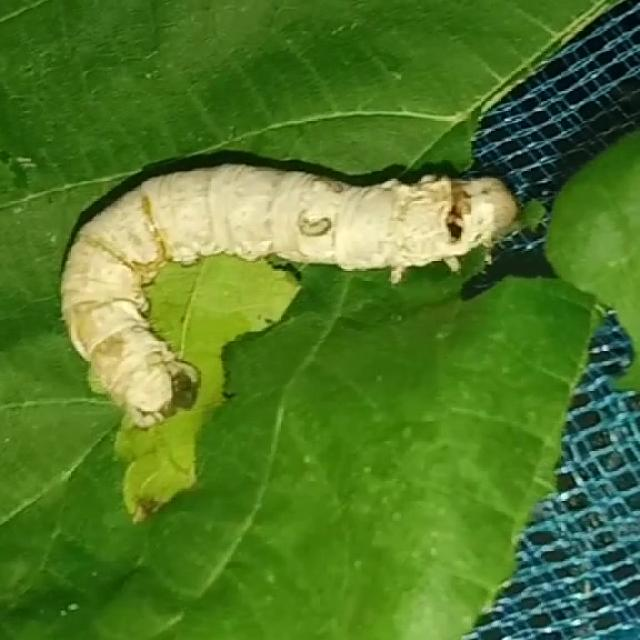Grasserie: (42, 113, 536, 460)
